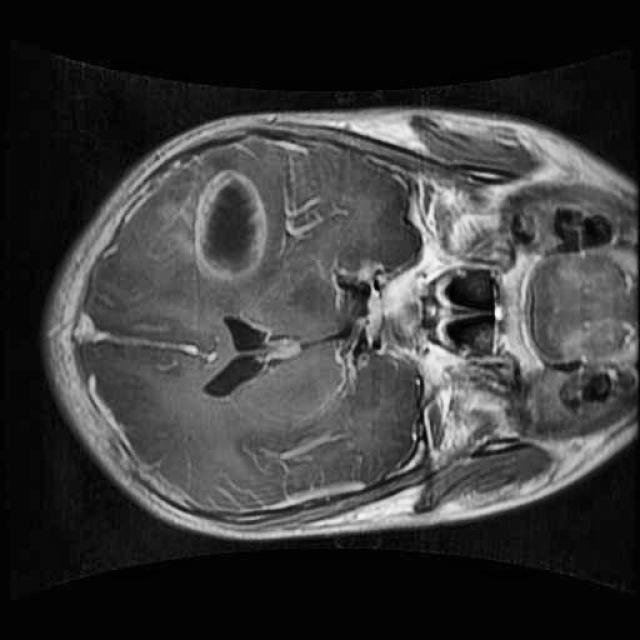Non-Tumor: (182, 155, 276, 290)
